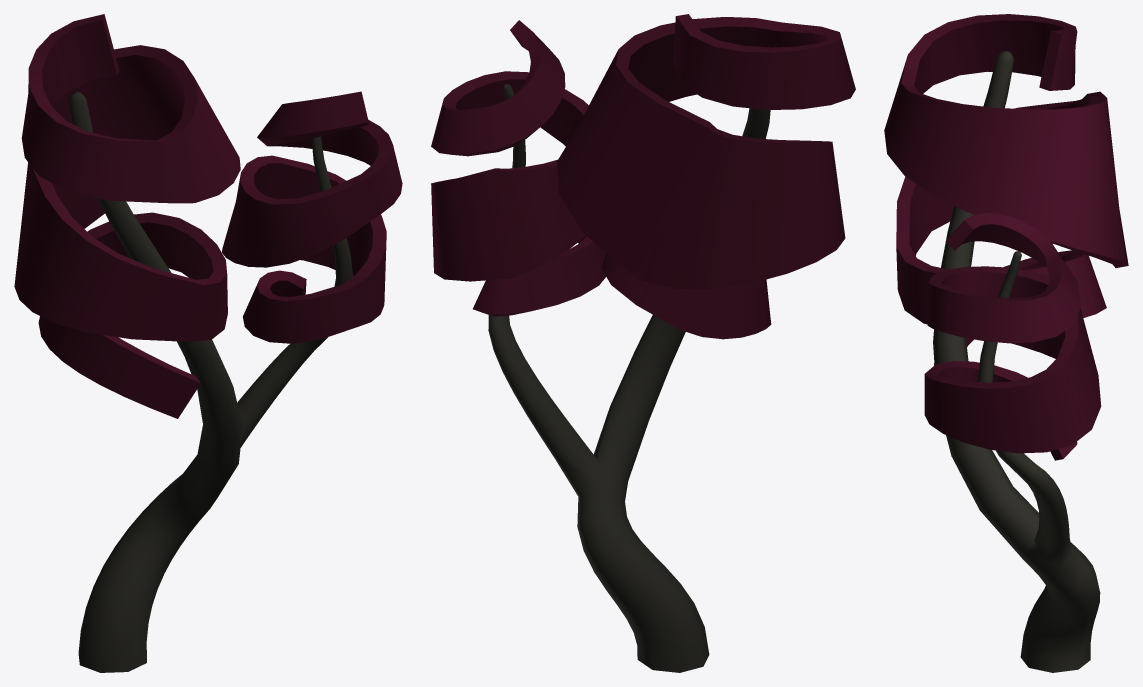
Rendered from Tree_Spiral_1.glb.
3 views of the same model, side by side, from view 1: azimuth 30°, elevation 25°; view 2: azimuth 150°, elevation 25°; view 3: azimuth 270°, elevation 25° (orthographic). The views are drawn at different scales.
Parts seen in each view (by area): view 1: Tree_Spiral_2; view 2: Tree_Spiral_2; view 3: Tree_Spiral_2.
Part boxes in pixels (x1=…): Tree_Spiral_2: x1=14, y1=14, x2=402, y2=672; Tree_Spiral_2: x1=431, y1=14, x2=855, y2=672; Tree_Spiral_2: x1=884, y1=14, x2=1128, y2=672.
Size of the model in its own units: 3.8 by 6.19 by 2.2.
